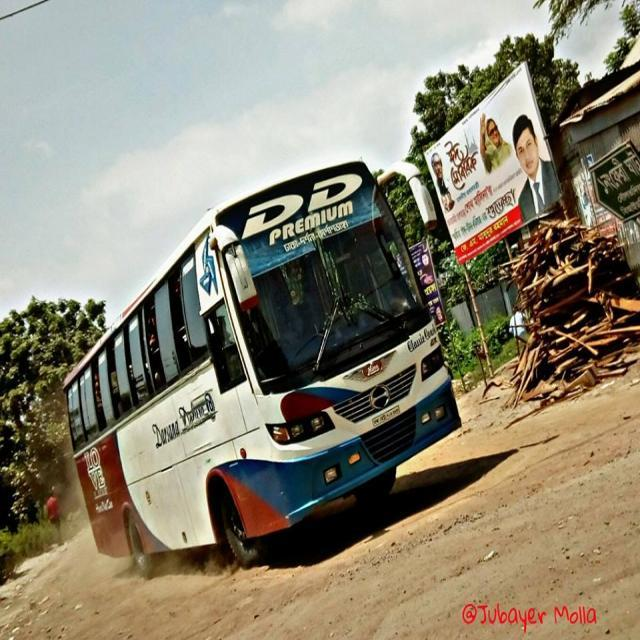bus: (63, 151, 463, 582)
